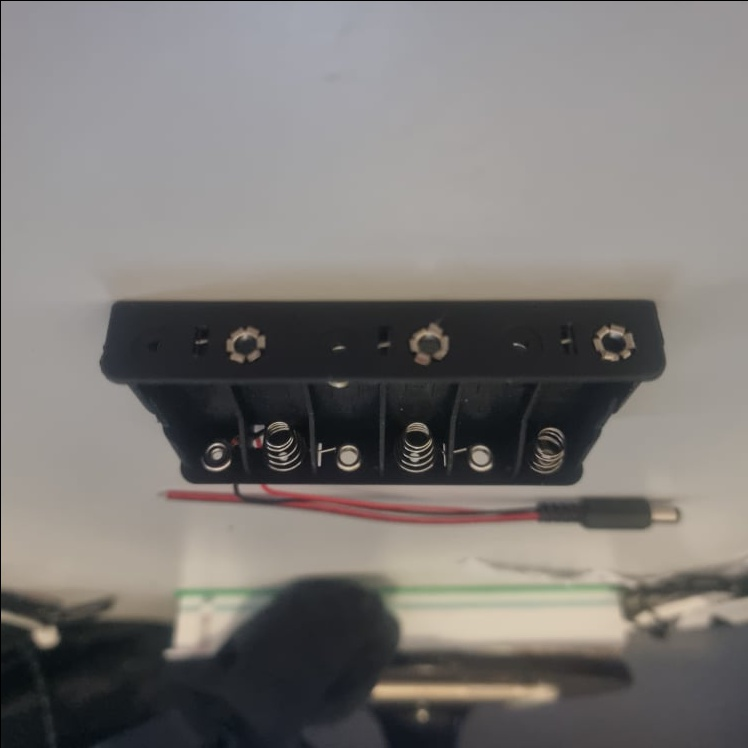BATTERY BOX: (99, 298, 667, 484)
